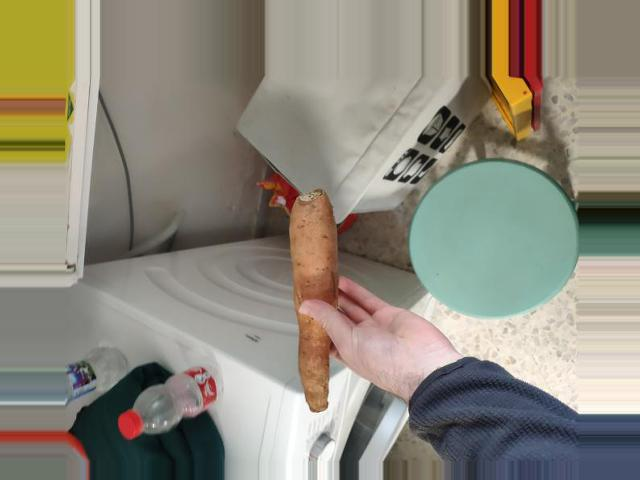sweet_potato: (285, 195, 355, 414)
